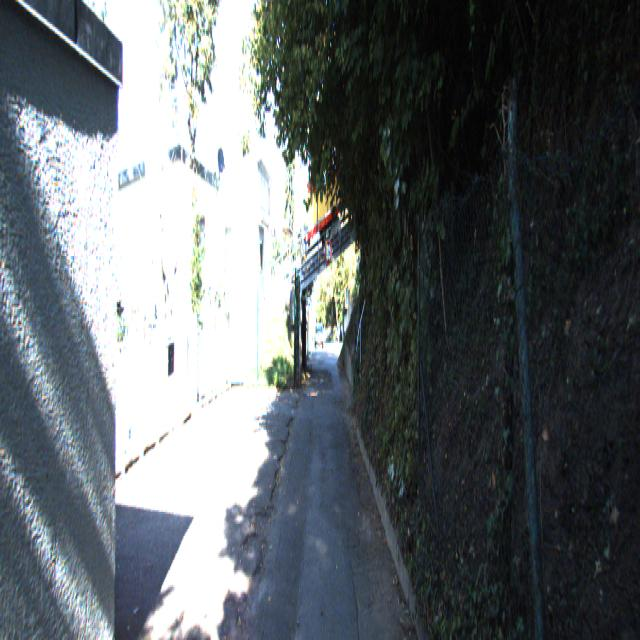Car: (314, 324, 324, 352)
